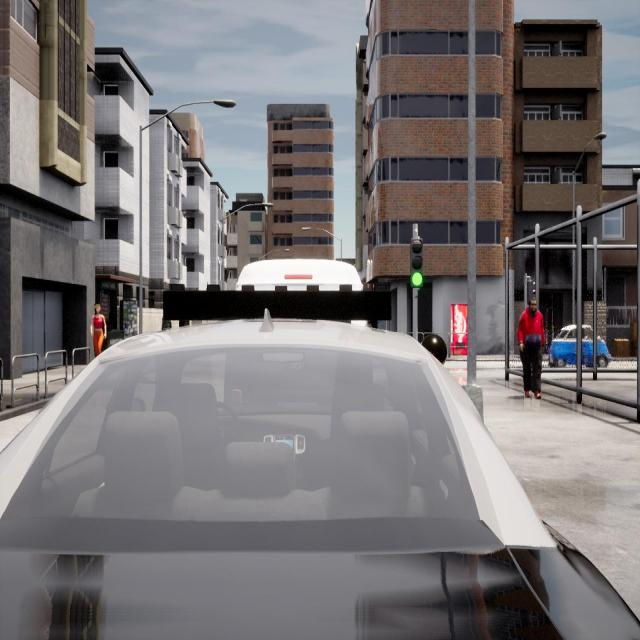Pedestrian: (518, 298, 544, 398), (90, 302, 106, 352)
Vehicle: (0, 317, 640, 638), (238, 258, 364, 290), (548, 323, 612, 370)
traffic_light: (412, 240, 423, 290), (528, 276, 536, 300)
